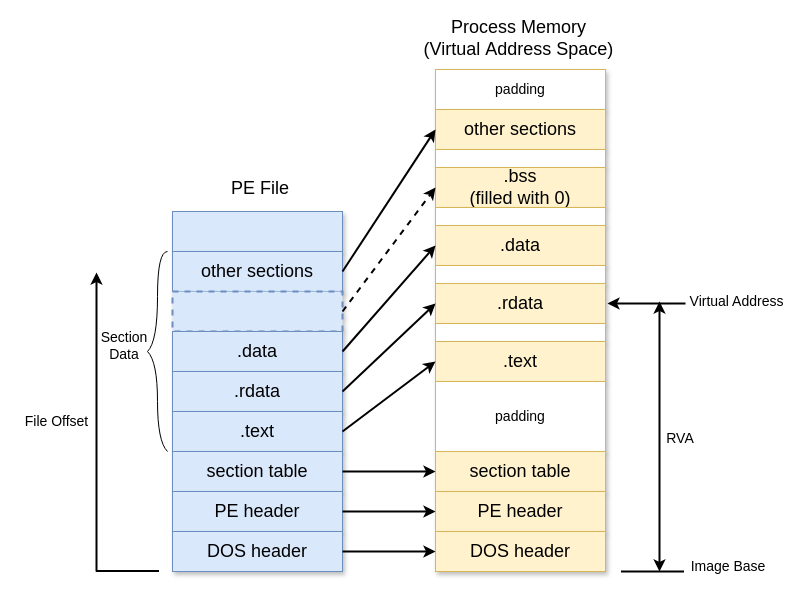
Image size: 804x599. Some labels were removed from this diagram. Each missing label, with the centre of its shape:
".bss" goes at pixel 258 312.
"unmapped data" goes at pixel 258 232.
